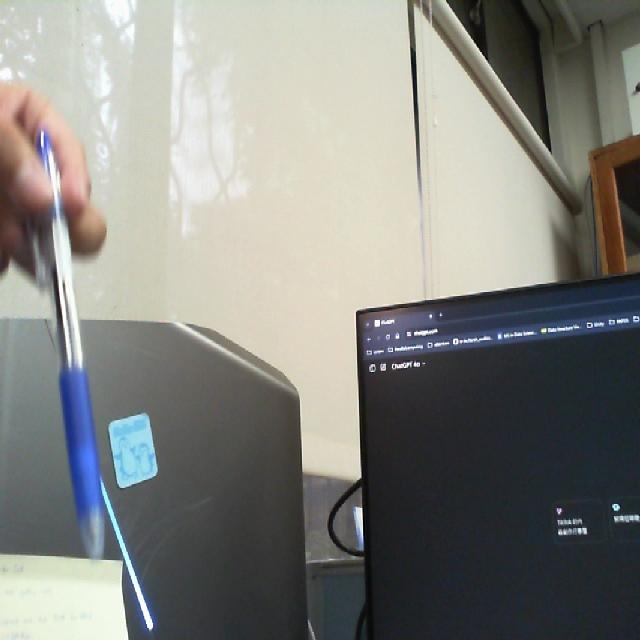Pen: (17, 112, 125, 576)
